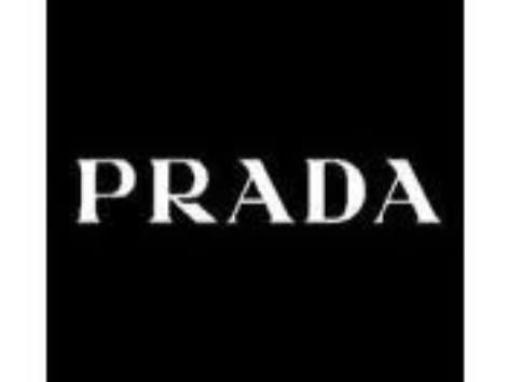PRADA: (72, 147, 441, 233)
